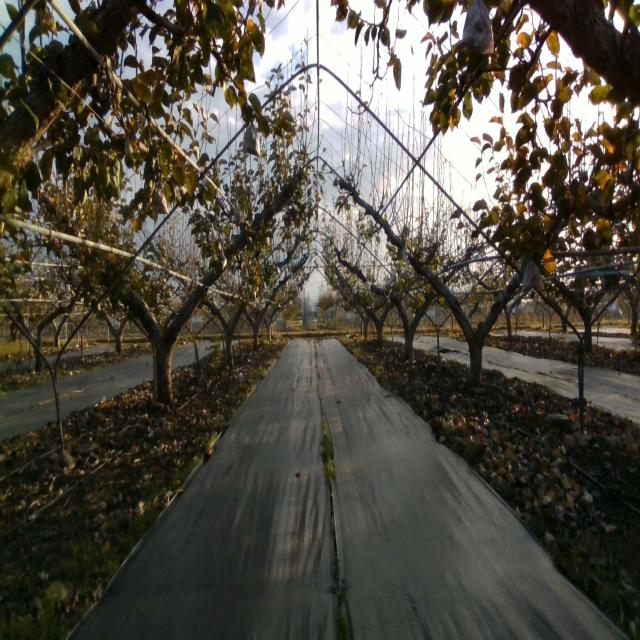pearbags: (462, 0, 494, 54), (520, 260, 544, 296), (240, 120, 260, 159), (152, 188, 169, 215), (232, 199, 245, 225)
